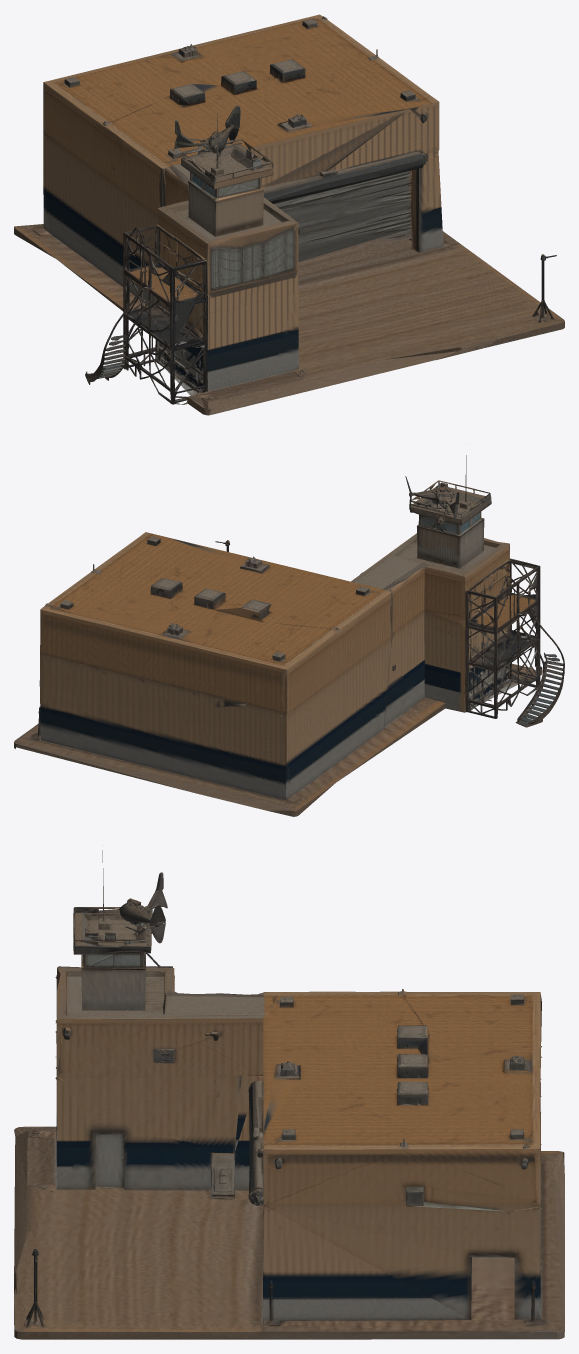
File: airfield.glb
3 views of the same model, one above another, from view 1: azimuth 30°, elevation 25°; view 2: azimuth 150°, elevation 25°; view 3: azimuth 270°, elevation 25° (orthographic). The views are drawn at different scales.
Bounding box in the file's own units: 1.9 × 1.17 × 1.84.
Materials: 1 (1 with a texture image).
